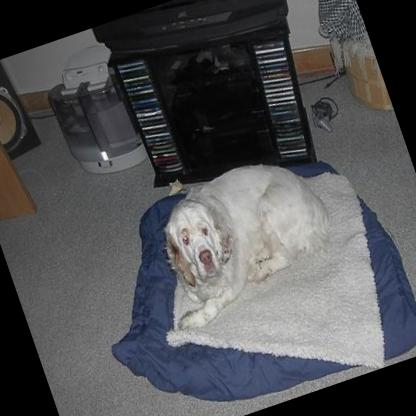clumber: (132, 138, 352, 342)
